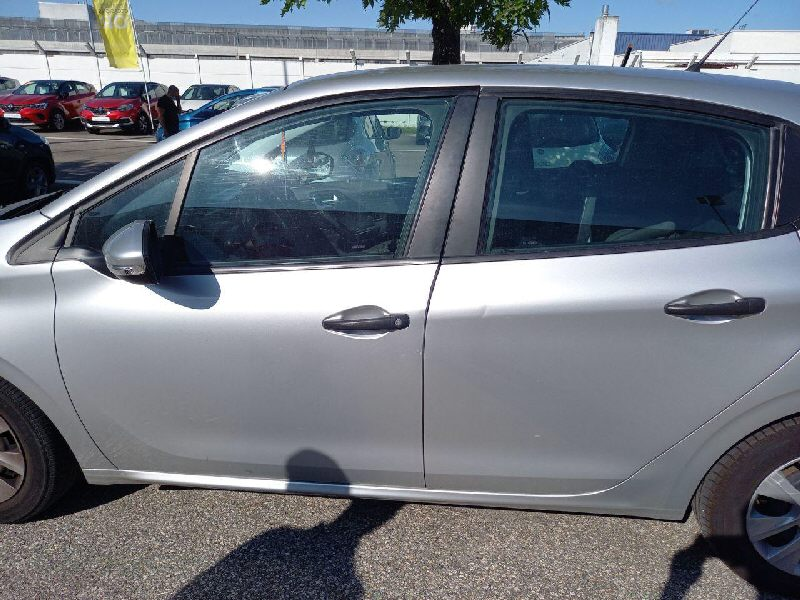front door: (25, 64, 503, 503)
